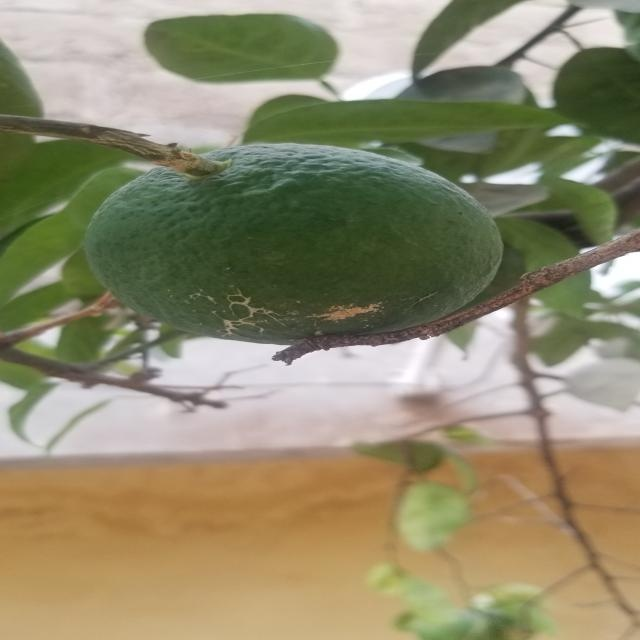agrume: (78, 138, 519, 379)
